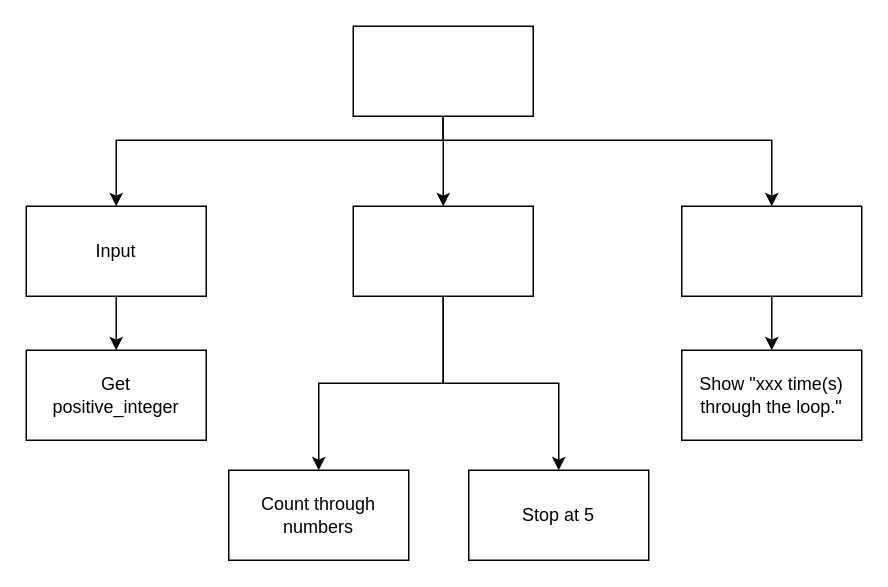
This 888x587 diagram has some shape labels left out. Each missing label, with the centre of its shape:
Count: point (442, 70)
Output: point (771, 250)
Process: point (442, 250)
